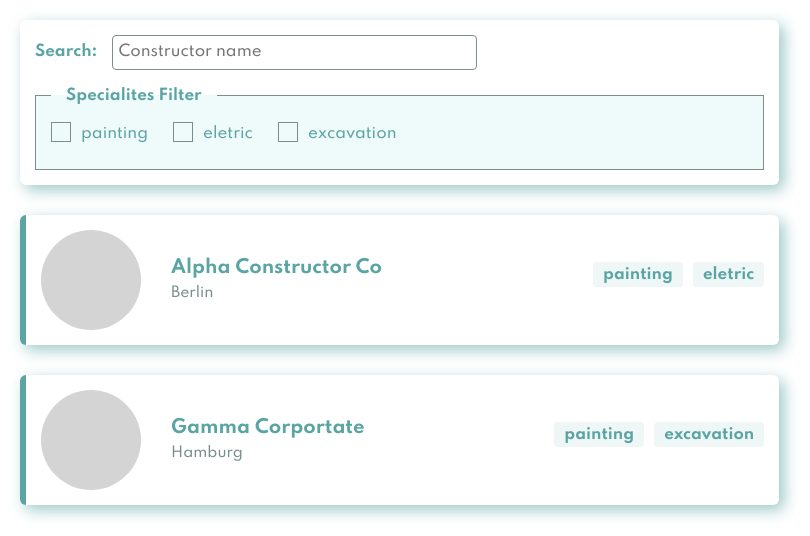
Constructor List component › should display "No constructors found!" when a search don't return results
The image size is (810, 536).
Type "xkskdjskglksdhewrihjfije" into the search field with placeholder "Constructor name" at [295, 52], box [112,35,477,70]
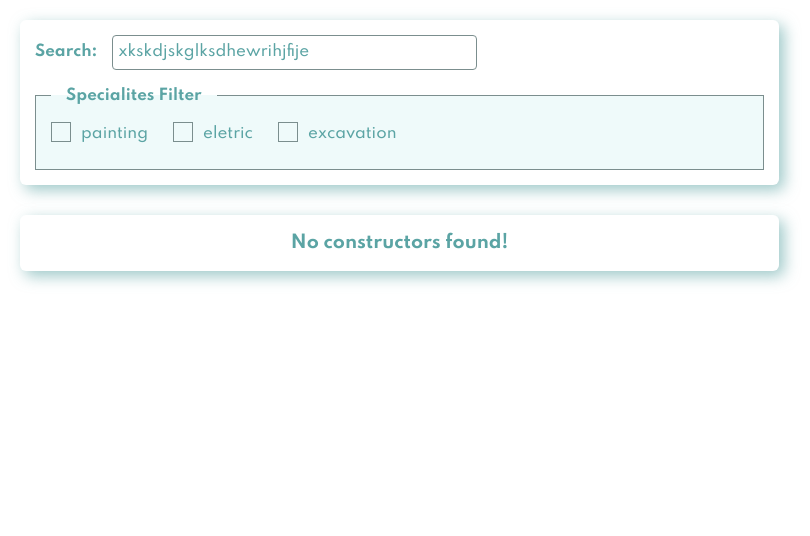
Expected: the heading "No constructors found!" is shown, [291,230,508,256]
